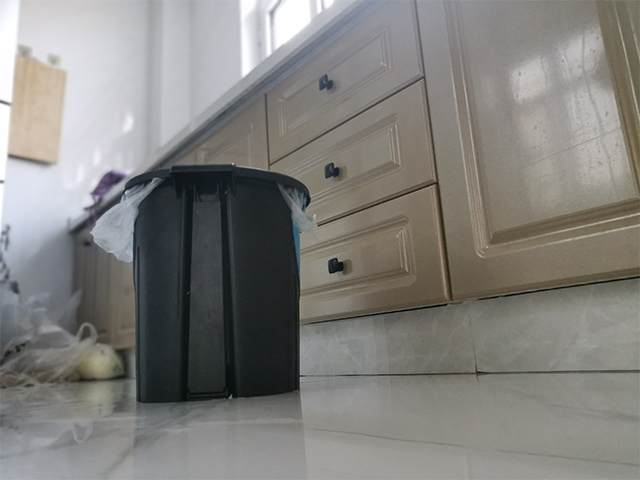cabinet: (279, 1, 639, 369)
trashcan: (119, 161, 314, 406)
